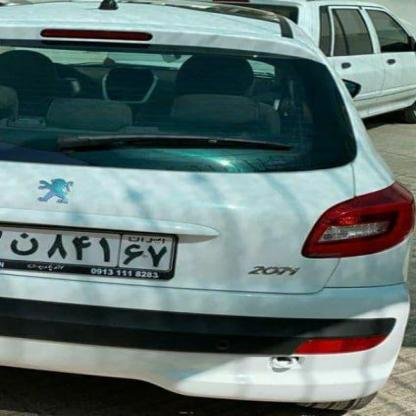Car: (0, 0, 416, 416), (143, 0, 416, 148)
